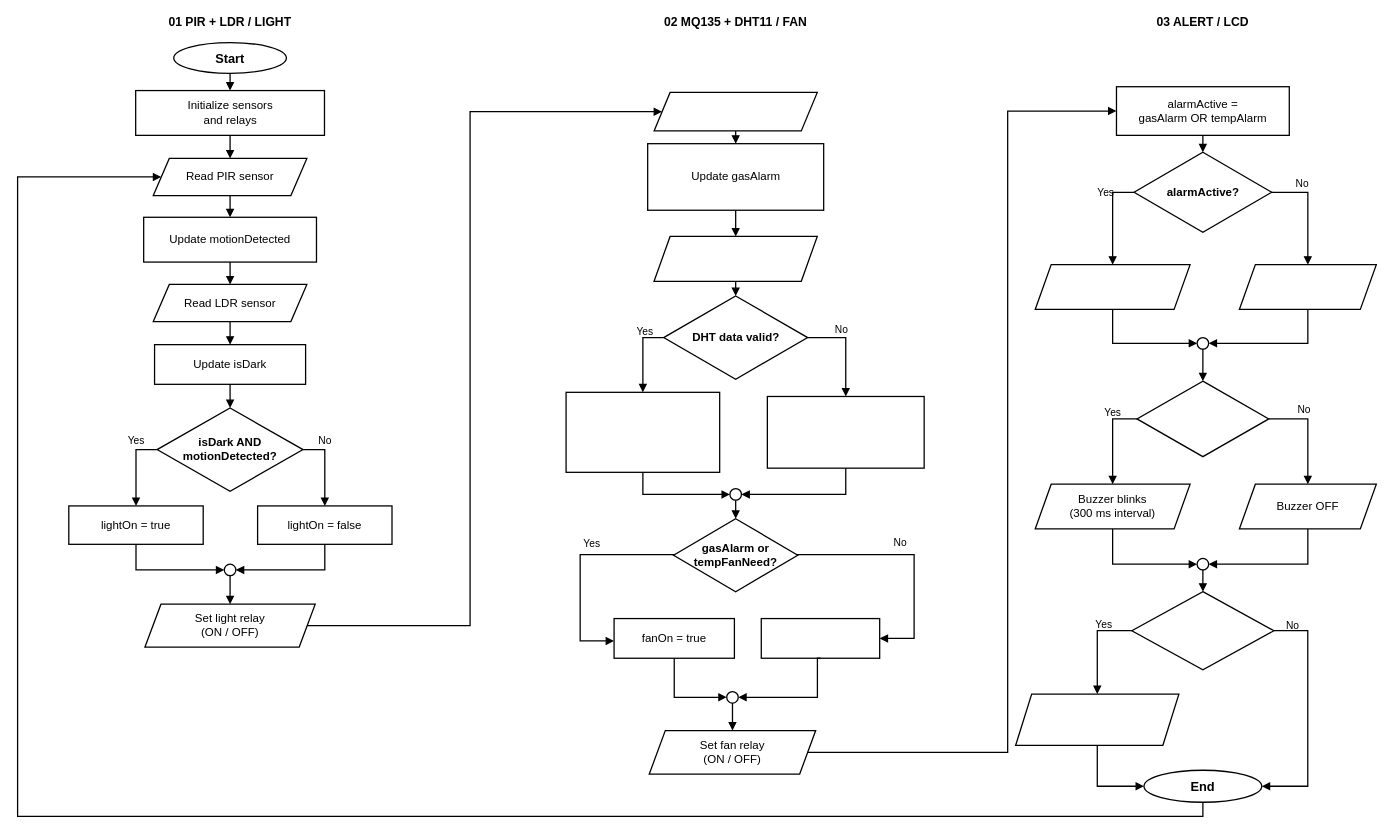
This 1388x834 diagram has some shape labels left out. The centre of each missing label's shape, as x and y in pixels:
"fanOn = false" goes at [820,638].
"gasAlarm?" goes at [1202,418].
"LCD interval ≥ 2s?" goes at [1202,630].
"Read DHT11 (Temp & Humidity)" goes at [735,259].
"Read MQ135 sensor" goes at [735,111].
"Set DHT error & clear temperature states" goes at [845,432].
"Update LCD 16x2 Gas > Temp > Sensor data" goes at [1097,719].
"Update temperature, humidity & alarm states" goes at [642,432].
"Warning LED blinks (300 ms interval)" goes at [1112,287].
"Warning LED OFF" goes at [1307,287].
